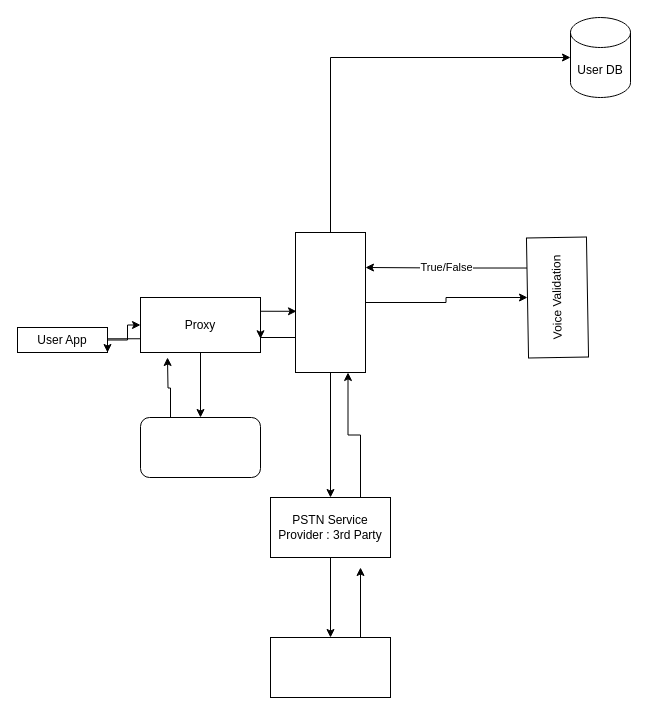
This 648x715 diagram has some shape labels left out. The centre of each missing label's shape, as x and y in pixels:
"Auth Provider" belongs at (x=330, y=302).
"Bank System" belongs at (x=200, y=447).
"User Phone" belongs at (x=330, y=667).
